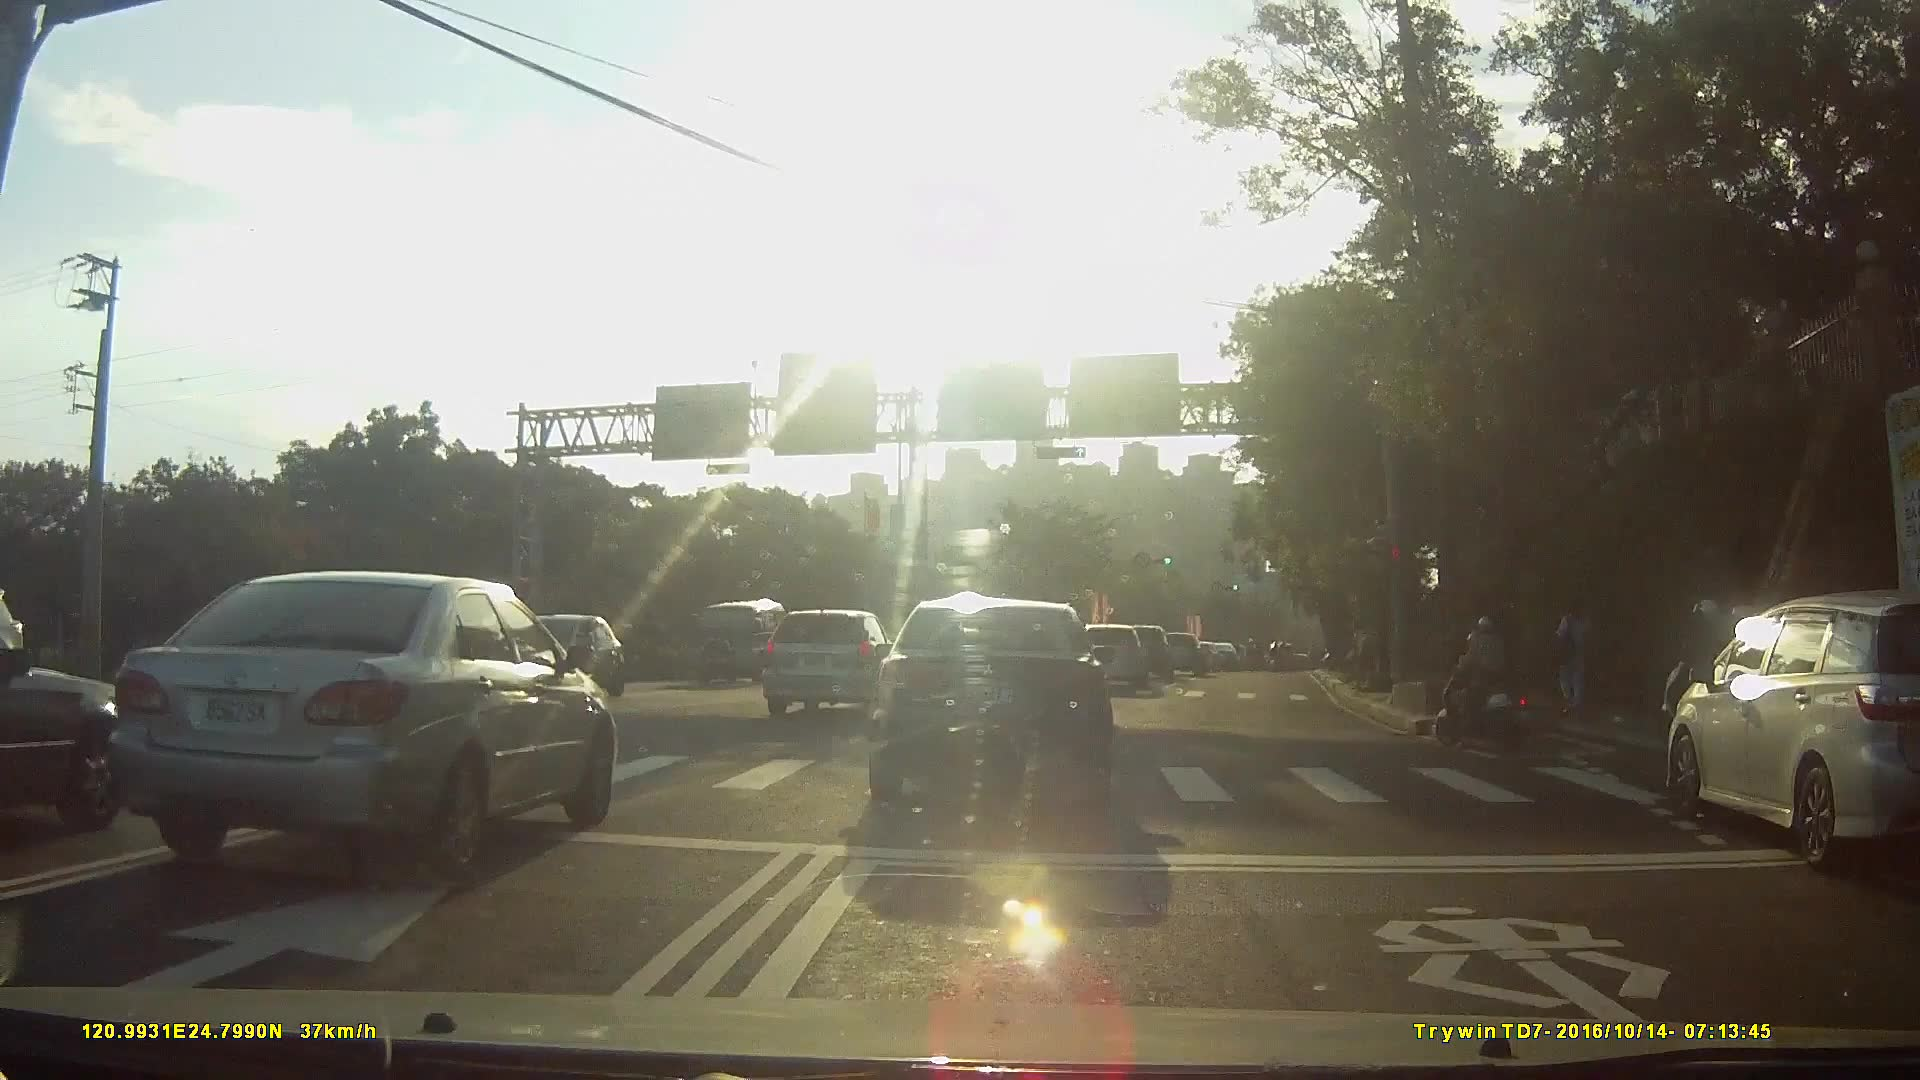pedestrian: (1551, 593, 1597, 721)
rider: (1440, 617, 1548, 758), (1659, 597, 1750, 736)
vehicle: (103, 570, 629, 878), (1663, 586, 1917, 874), (874, 596, 1125, 810), (1, 626, 127, 831), (769, 606, 910, 715), (692, 594, 803, 688), (1082, 622, 1156, 692), (1119, 622, 1181, 680), (1159, 631, 1215, 675), (1207, 644, 1246, 672)
